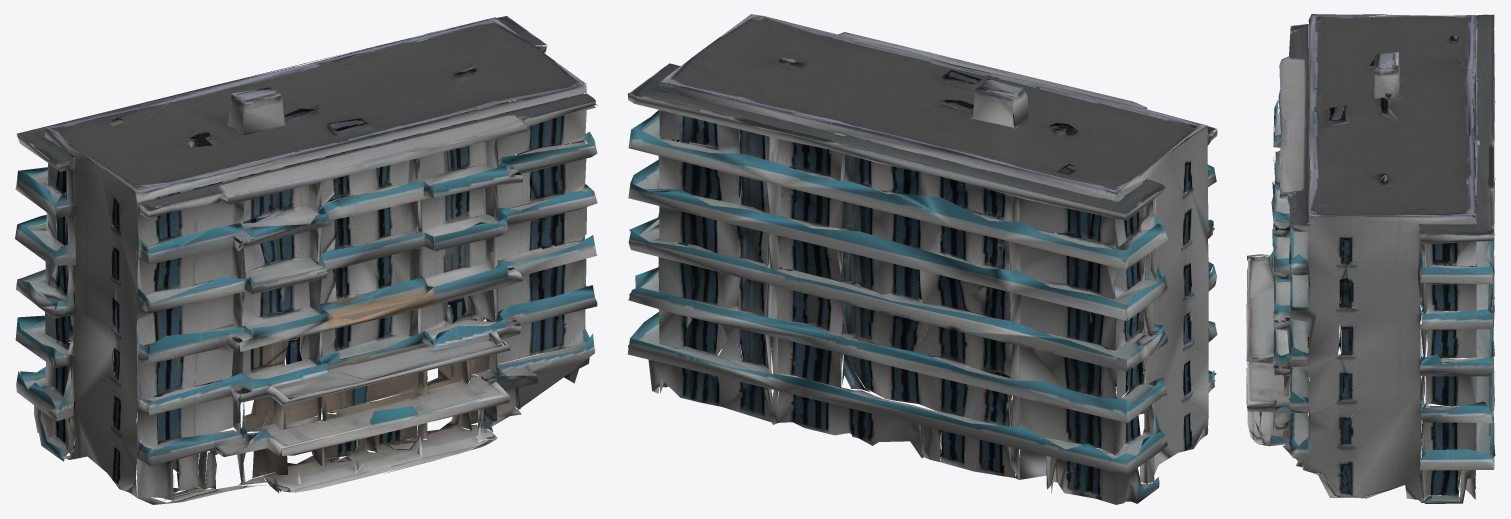
Rendered from stadt_wohnblock.glb.
3 views of the same model, side by side, from view 1: azimuth 30°, elevation 25°; view 2: azimuth 150°, elevation 25°; view 3: azimuth 270°, elevation 25° (orthographic). The views are drawn at different scales.
Visible parts, largest first — view 1: Prop; view 2: Prop; view 3: Prop.
Part boxes in pixels (box(x1,y1,x2,y2)): Prop: box(15, 16, 597, 504); Prop: box(627, 14, 1217, 504); Prop: box(1246, 14, 1495, 503).
Size of the model in its own units: 1.53 by 1 by 0.7282.
1 material, 1 textured.
